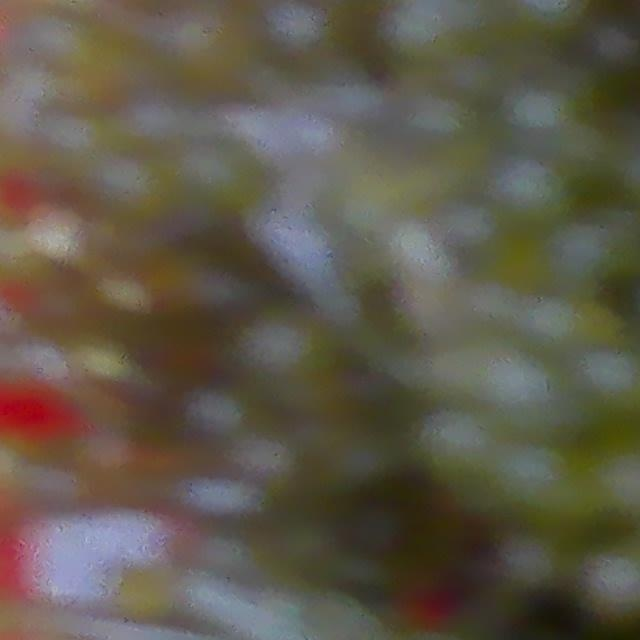SeaGrape: (477, 350, 565, 438), (489, 439, 576, 524), (489, 152, 573, 231), (418, 407, 495, 484), (577, 342, 640, 424), (493, 526, 563, 597)
